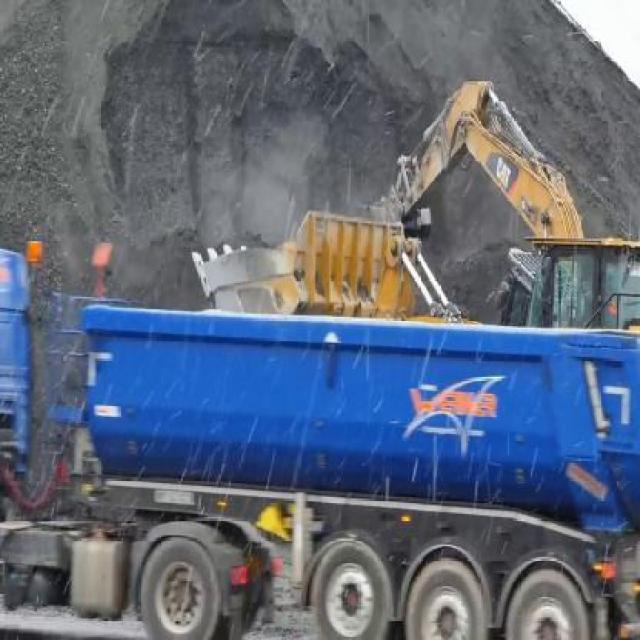Dump Truck: (1, 236, 639, 638)
Excavator: (356, 72, 639, 328)
Loader: (190, 82, 564, 310)
